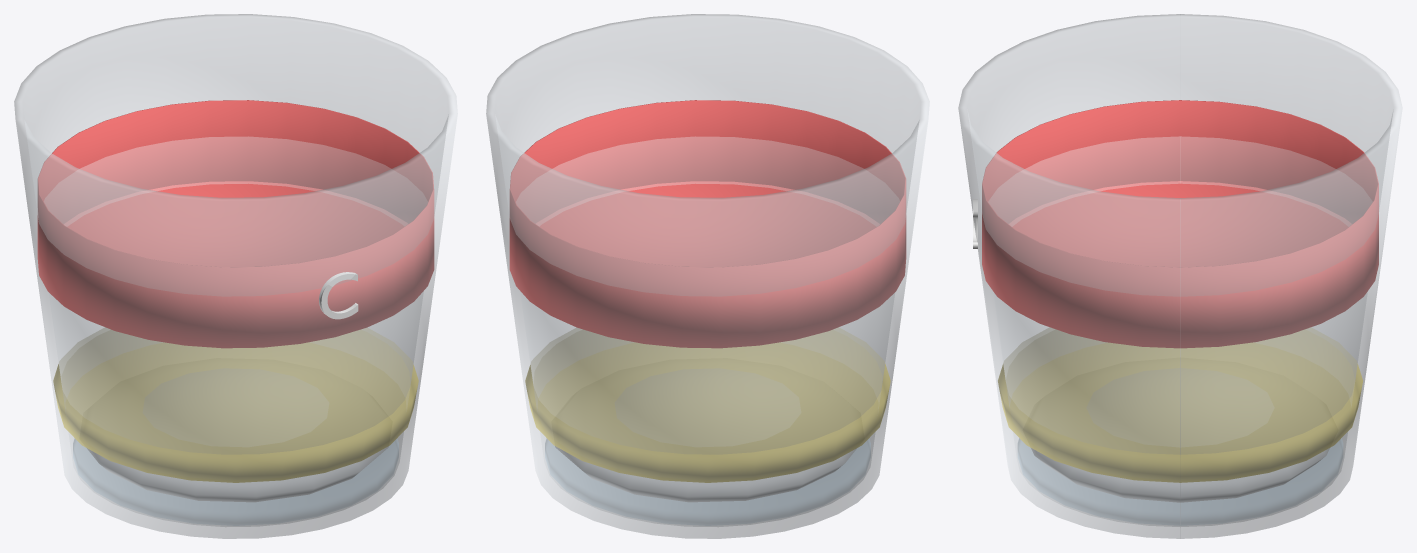
Rendered from cup_C.glb.
The picture shows the model from 3 angles, left to right: view 1: azimuth 30°, elevation 25°; view 2: azimuth 150°, elevation 25°; view 3: azimuth 270°, elevation 25°; orthographic projection.
Parts seen in each view (by area): view 1: cupC_body, cupC_label, oil_layer, cotton, water_film, cupC_letter; view 2: cupC_body, cupC_label, oil_layer, cotton, water_film; view 3: cupC_body, cupC_label, oil_layer, cotton, water_film.
Boxes of the visible parts, x1,y1,x2,y2 form: cupC_body: (14,14,457,538); cupC_label: (37,100,434,348); oil_layer: (53,328,418,482); cotton: (87,369,388,502); water_film: (73,439,398,525); cupC_letter: (319,272,358,319); cupC_body: (486,14,929,538); cupC_label: (509,100,906,348); oil_layer: (525,328,890,482); cotton: (555,369,856,502); water_film: (545,439,870,525); cupC_body: (958,14,1402,538); cupC_label: (982,100,1378,348); oil_layer: (998,328,1362,482); cotton: (1031,368,1329,502); water_film: (1018,438,1342,525).
Size of the model in its own units: 0.09 by 0.08 by 0.09.
